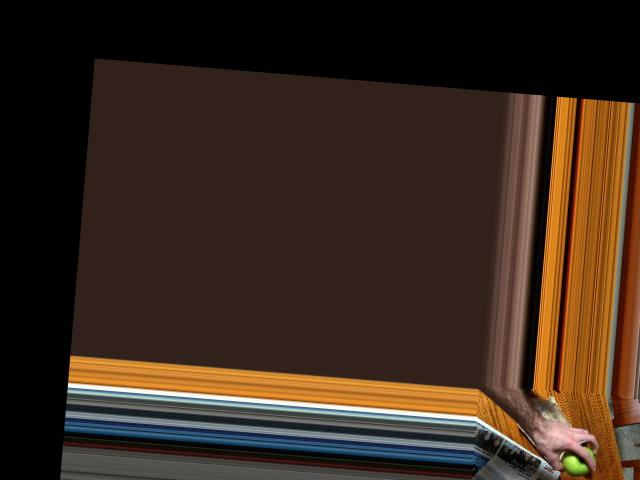apple: (558, 444, 598, 476)
